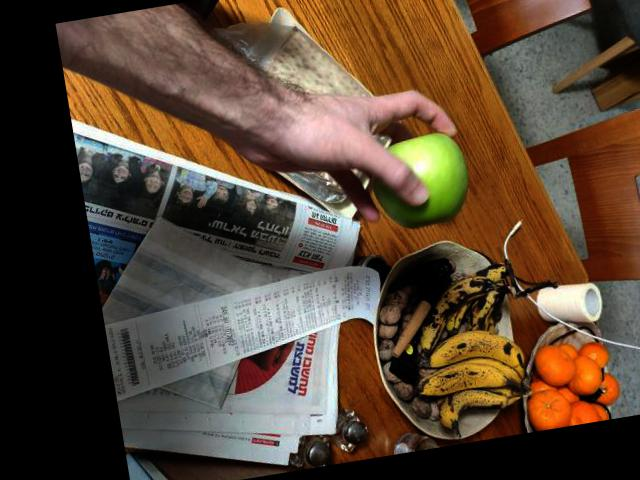apple: (366, 129, 475, 236)
